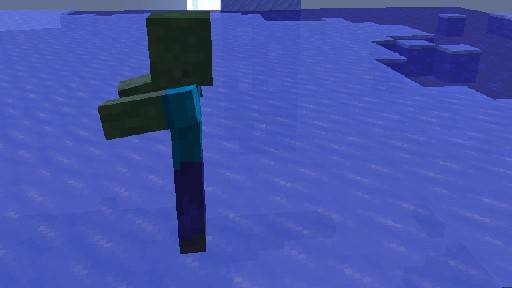zombie: (97, 10, 213, 253)
